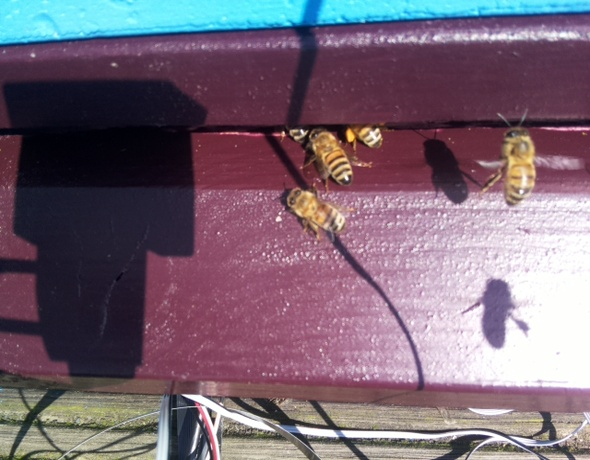no_pollen: (277, 184, 354, 243), (494, 119, 540, 211), (303, 123, 360, 190)
pollen: (341, 118, 389, 156)
